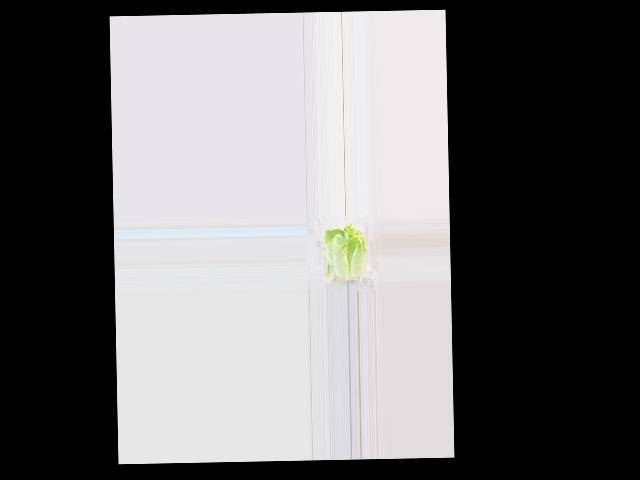lettuce: (323, 222, 367, 280)
